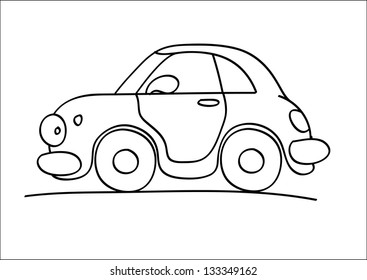car: (32, 43, 333, 194)
